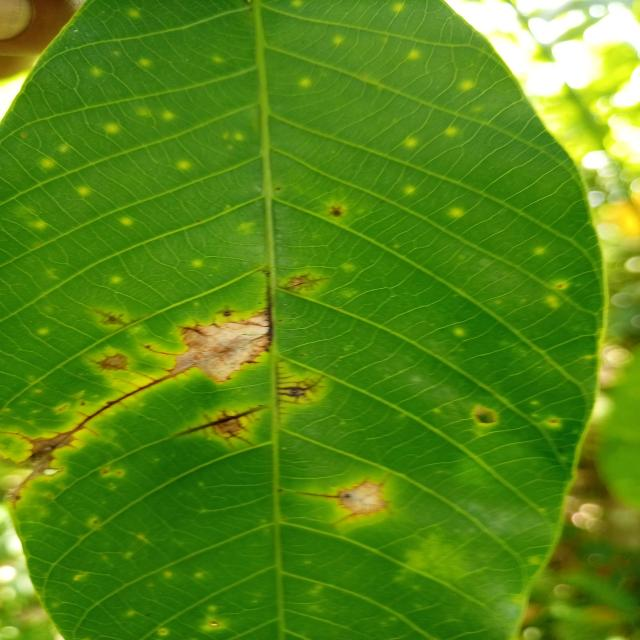Corynespora: (50, 368, 178, 436), (172, 406, 264, 450), (275, 361, 326, 423), (92, 308, 141, 330), (276, 274, 328, 294), (258, 285, 274, 347), (176, 319, 210, 339), (297, 490, 349, 500)
Leaf-Blight: (171, 314, 269, 383), (8, 434, 76, 498), (339, 484, 385, 515)
